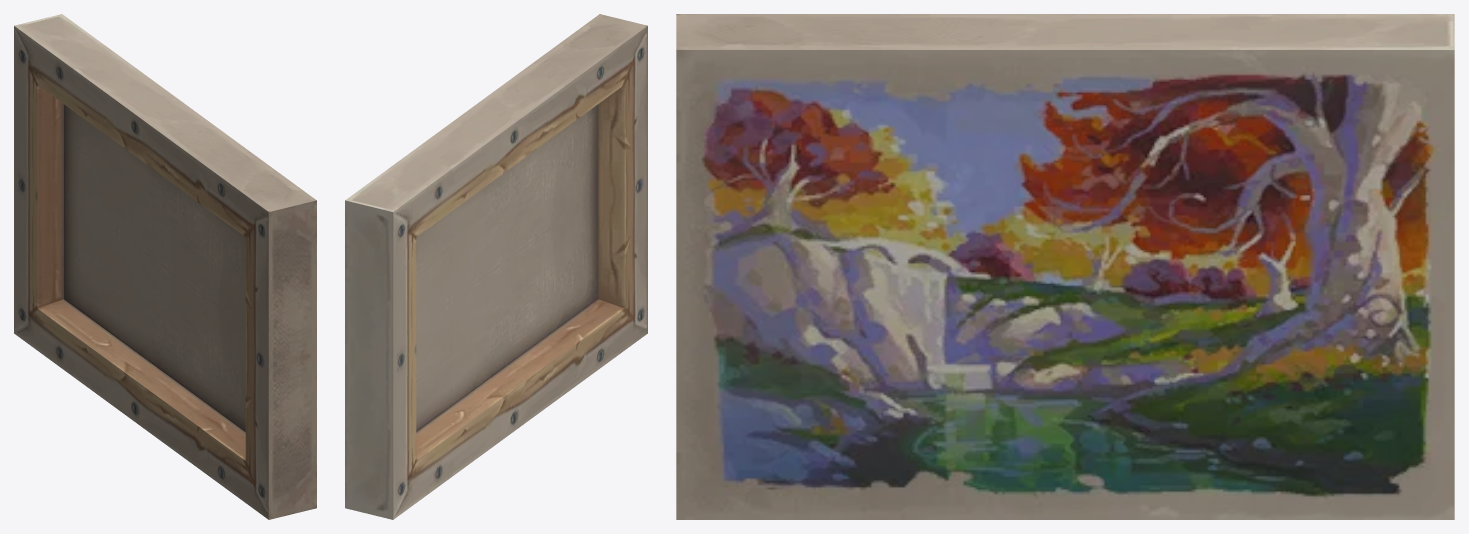
The picture shows the model from 3 angles, left to right: view 1: azimuth 30°, elevation 25°; view 2: azimuth 150°, elevation 25°; view 3: azimuth 270°, elevation 25°; orthographic projection. The views are drawn at different scales.
Size of the model in its own units: 0.1629 by 0.9964 by 1.49.
1 material, 1 textured.
